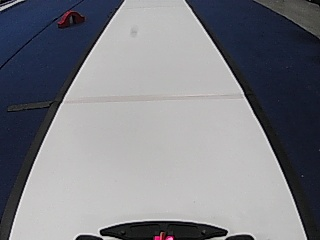bridge: (54, 7, 85, 28)
